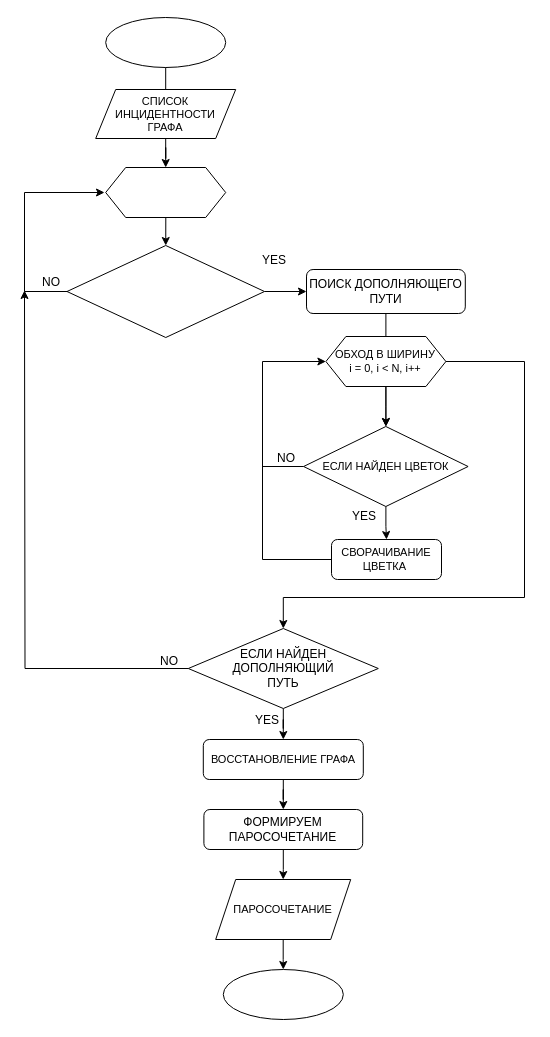
Image size: 550x1037. Some labels were removed from this diagram. The shapes that lost their labels are listed below. From the top down, each one's centre as x and y in pixels, then its label:
At [165,42]: "НАЧАЛО".
At [165,192]: "i = 0, i < N, i++".
At [165,291]: "ЕСЛИ ВЕРШИНА НЕ В ПАРОСОЧЕТАНИИ".
At [282,994]: "КОНЕЦ".
